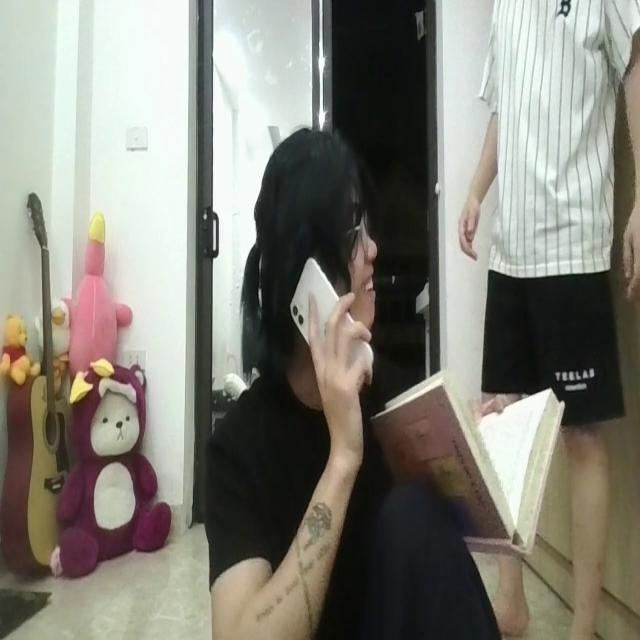book: (369, 368, 567, 560)
extra_person: (458, 3, 640, 640)
phone: (284, 253, 375, 393)
student: (190, 123, 496, 640)
